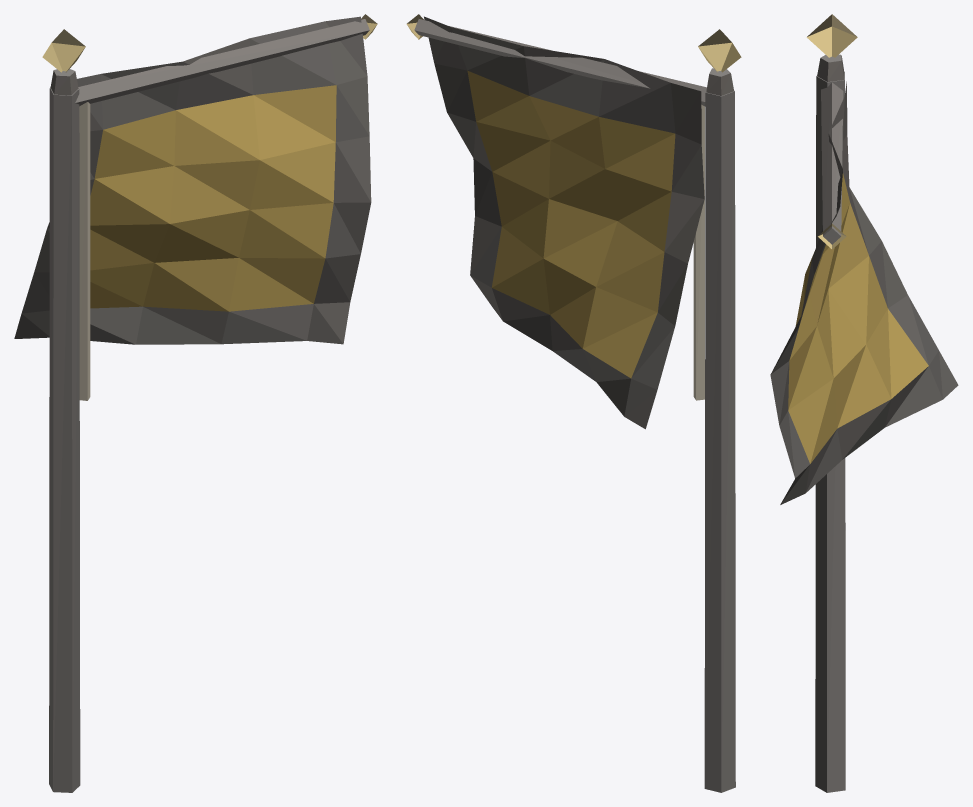
The model's file is flag.square.huangqi__pole.stick.fangun__armHang.glb.
The picture shows the model from 3 angles, left to right: view 1: azimuth 30°, elevation 25°; view 2: azimuth 150°, elevation 25°; view 3: azimuth 270°, elevation 25°; orthographic projection. The views are drawn at different scales.
Parts seen in each view (by area): view 1: flag.square.huangqi; view 2: flag.square.huangqi; view 3: flag.square.huangqi.
Part boxes in pixels (x1,y1,x2,y2): flag.square.huangqi: [14, 14, 377, 792]; flag.square.huangqi: [406, 14, 741, 792]; flag.square.huangqi: [770, 14, 958, 792].
Bounding box in the file's own units: 1.06 × 2.28 × 0.5043.
